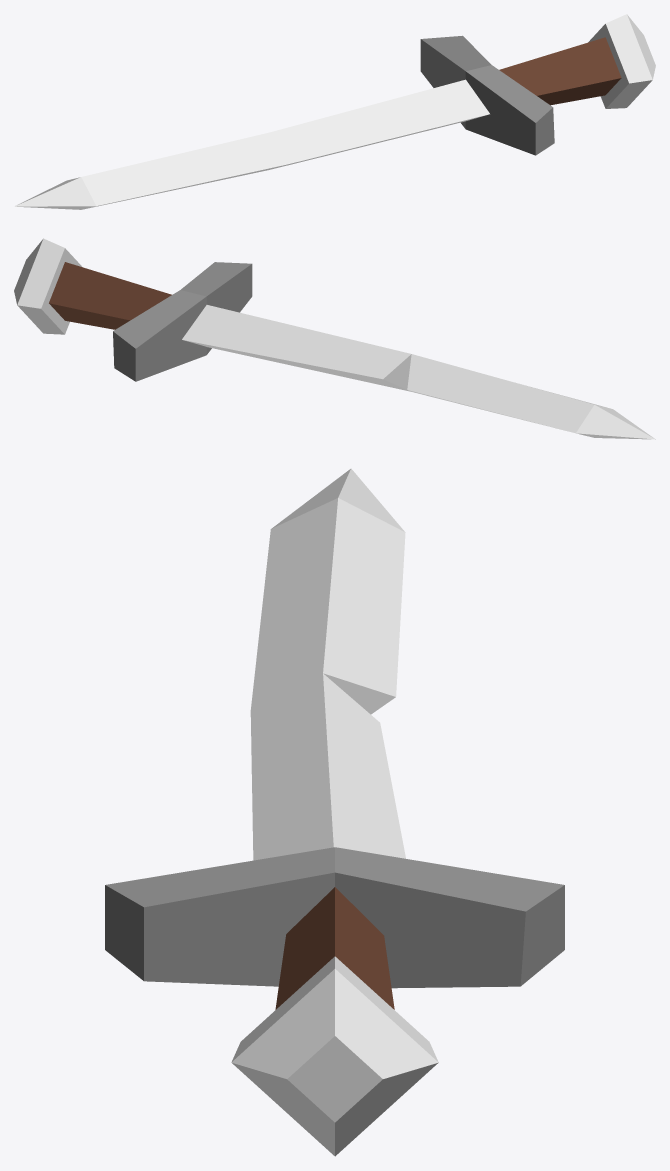
File: Sword.glb
3 views of the same model, one above another, from view 1: azimuth 30°, elevation 25°; view 2: azimuth 150°, elevation 25°; view 3: azimuth 270°, elevation 25° (orthographic). The views are drawn at different scales.
Visible parts, largest first — view 1: Sword; view 2: Sword; view 3: Sword.
Part boxes in pixels (left/top/right/bottom): Sword: left=14, top=14, right=655, bottom=209; Sword: left=14, top=238, right=655, bottom=439; Sword: left=105, top=468, right=564, bottom=1156.
Bounding box in the file's own units: 0.3055 × 0.0439 × 0.0972.
Materials: 1 (1 with a texture image).
